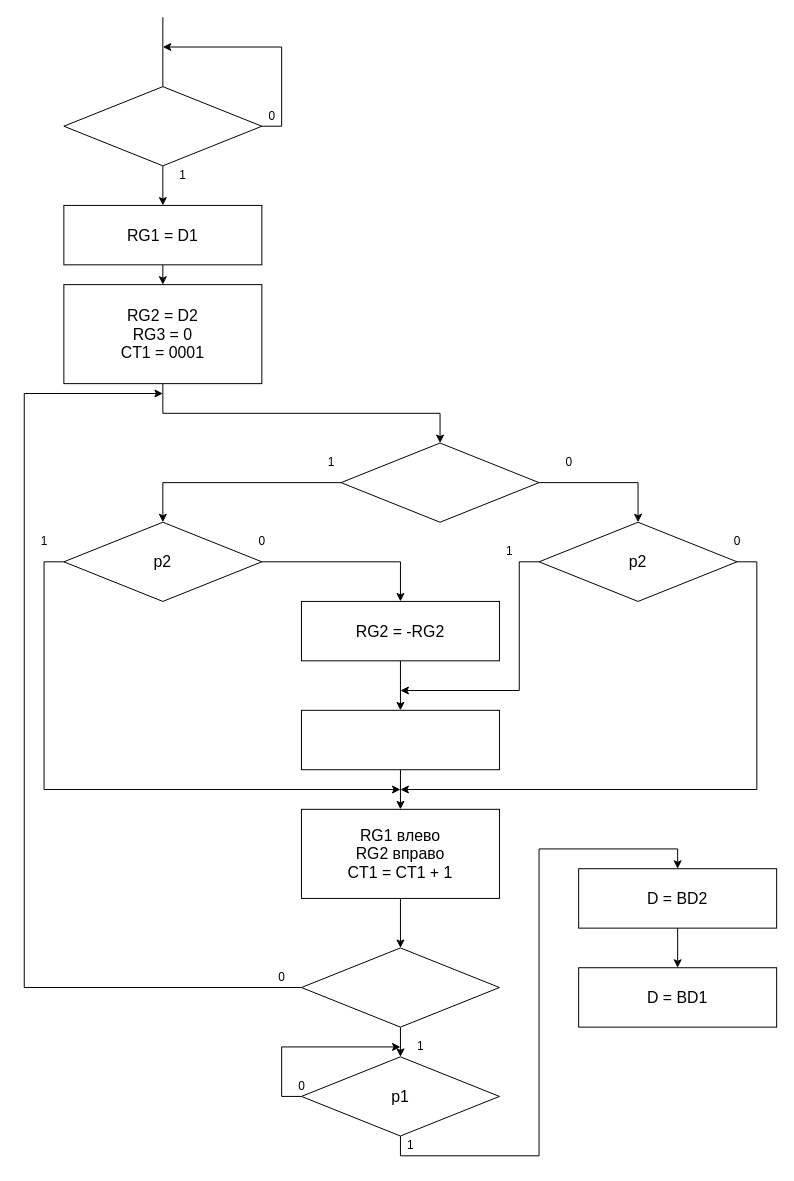
Image size: 794x1181. Some labels were removed from this diagram. Each missing label, with the centre of its shape:
p0: [162,126]
p3: [439,482]
p4: [399,987]
RG3 = RG3 + RG2: [399,739]
